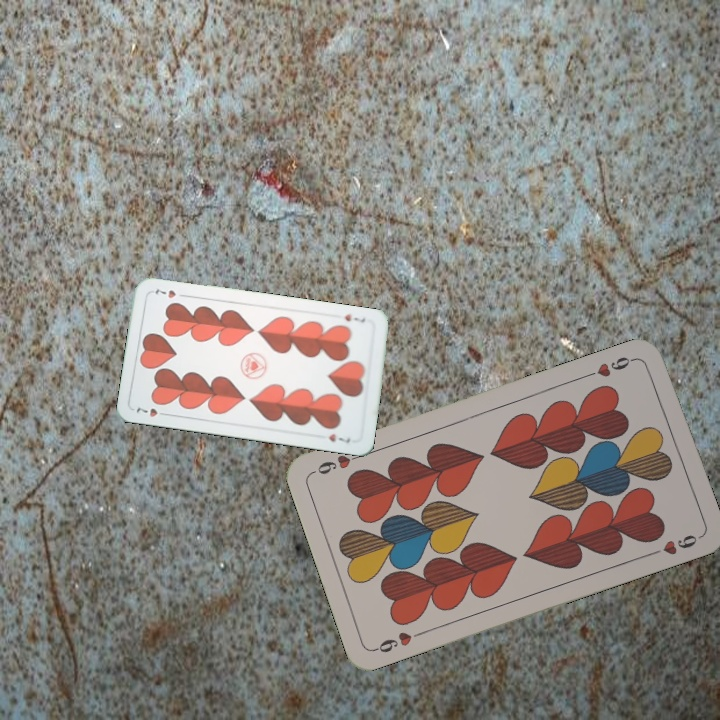H7: (132, 403, 171, 419), (341, 310, 368, 325)
H9: (370, 626, 427, 656), (583, 352, 640, 380)
